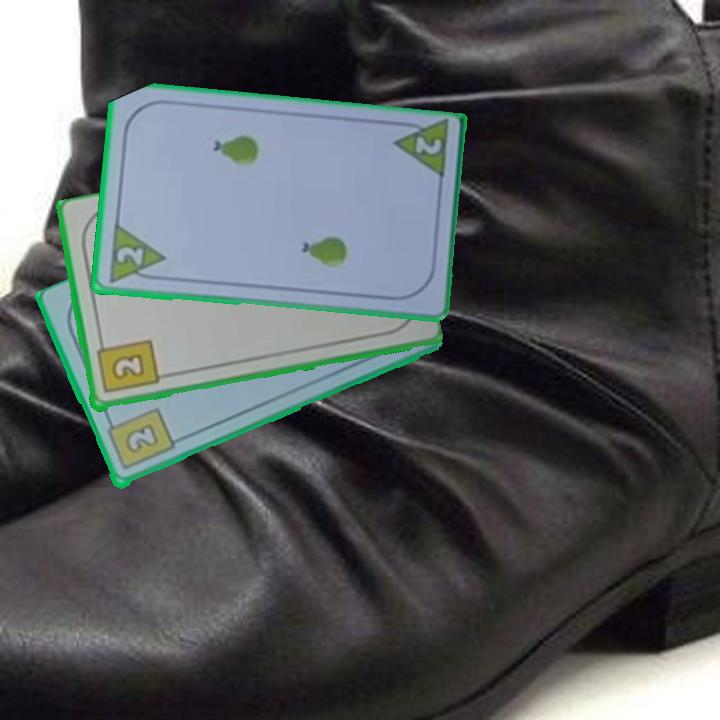2b: (102, 404, 177, 474), (92, 336, 161, 397)
2p: (104, 221, 167, 286), (411, 131, 445, 158)
